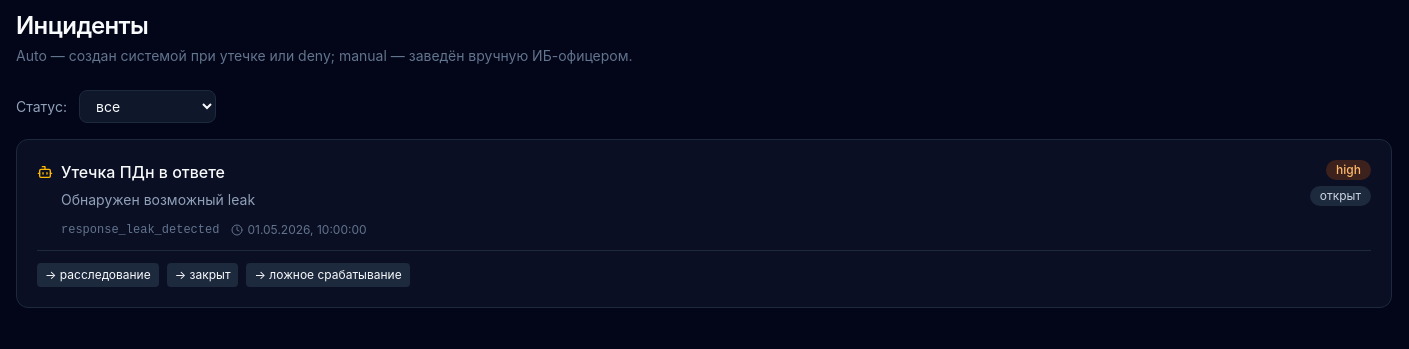
IncidentsPage — переходы статусов и If-Match (G.2c) › ошибка 412 показывает подсказку о конфликте версий
Expected: the heading "Утечка ПДн в ответе" is shown, [37,162,225,182]
Click the button "→ расследование".
click(98, 275)  # box [37,263,159,287]
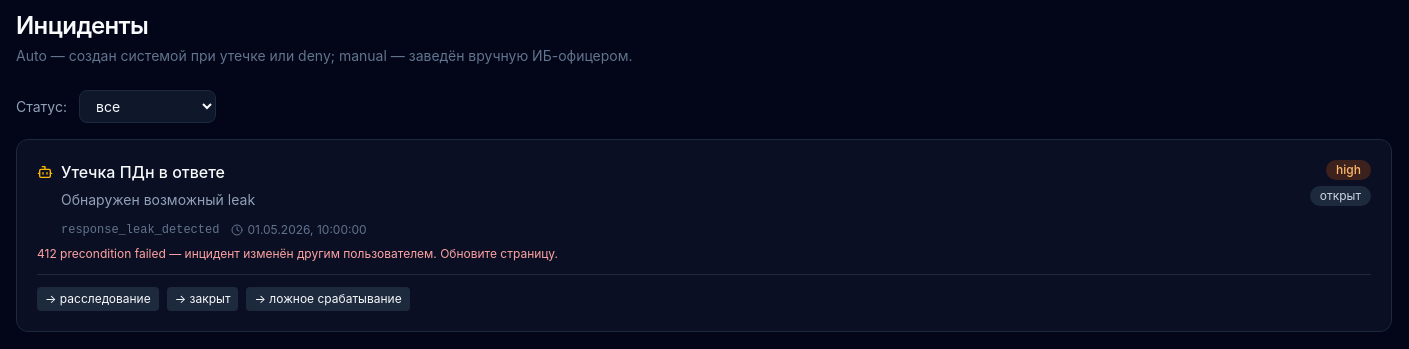
Expected: the message shows "изменён другим пользователем", [166,246,558,261]
